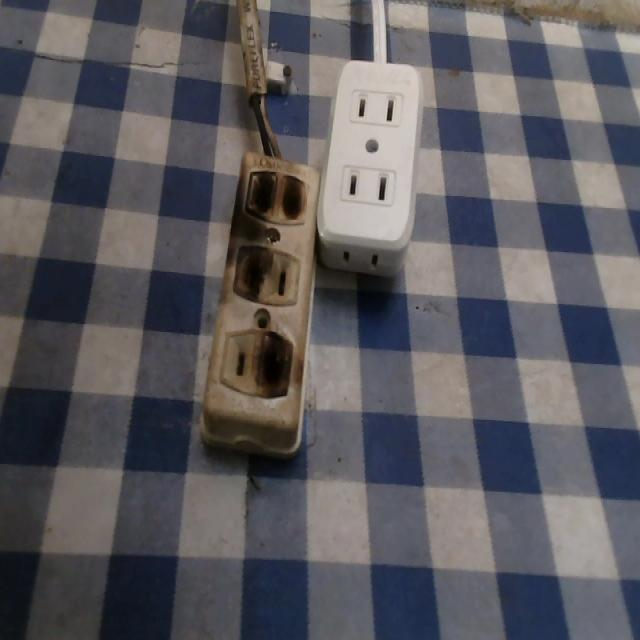-: (243, 161, 312, 227), (220, 240, 274, 307), (253, 329, 301, 403)
